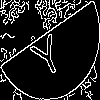Y: (25, 24, 66, 80)
